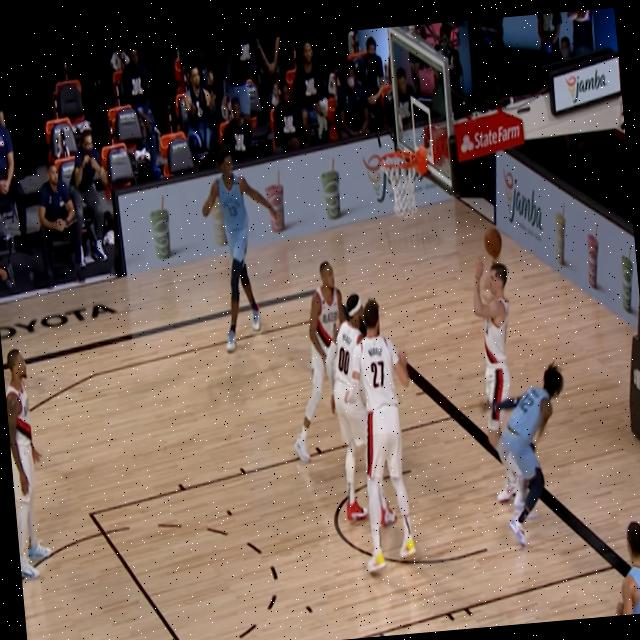no foul: (286, 233, 374, 534), (442, 200, 524, 455), (474, 361, 584, 548), (349, 290, 418, 584)
